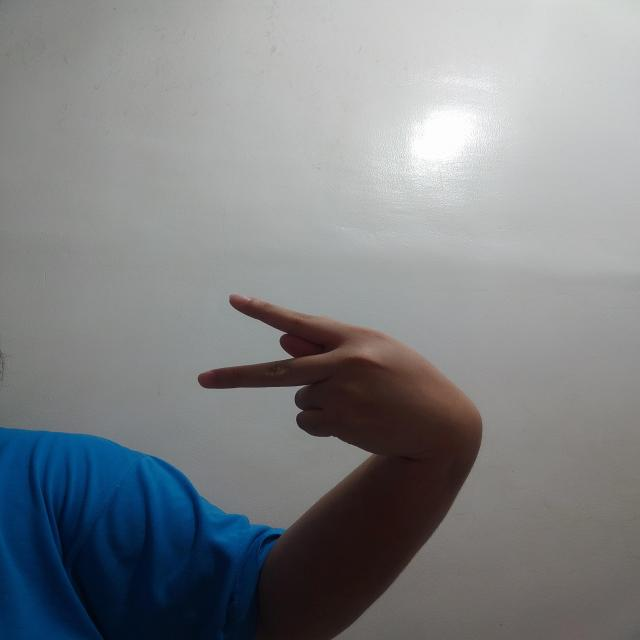K: (198, 294, 483, 458)
